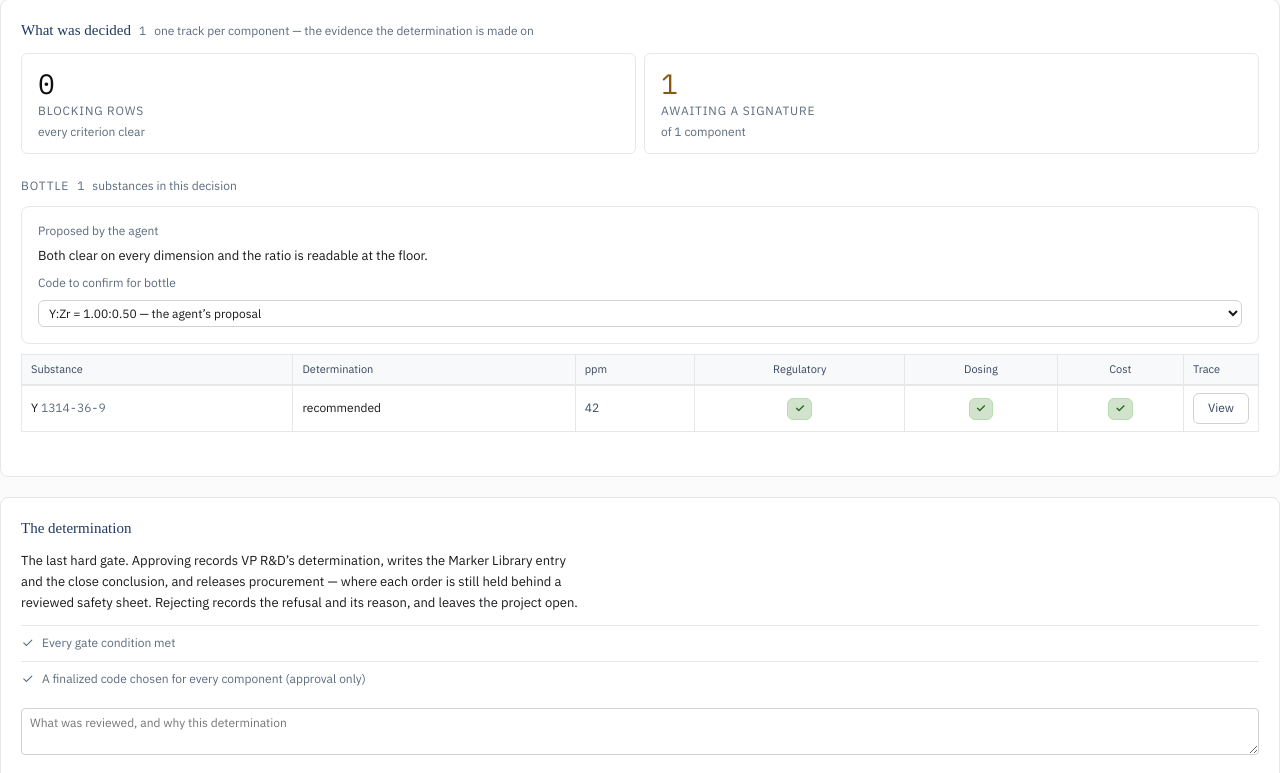
Test case: Decision — recording a ruling › shows the blockers the re-read discovered after a refusal
The width and height of the screenshot is (1280, 773).
Expected: the text "Proposed by the agent" is shown, [38,223,159,240]
Type "Signing off." into the text box named "determination note".
click(640, 732); type("Signing off.")  # box [21,708,1259,755]
(page scrolled)
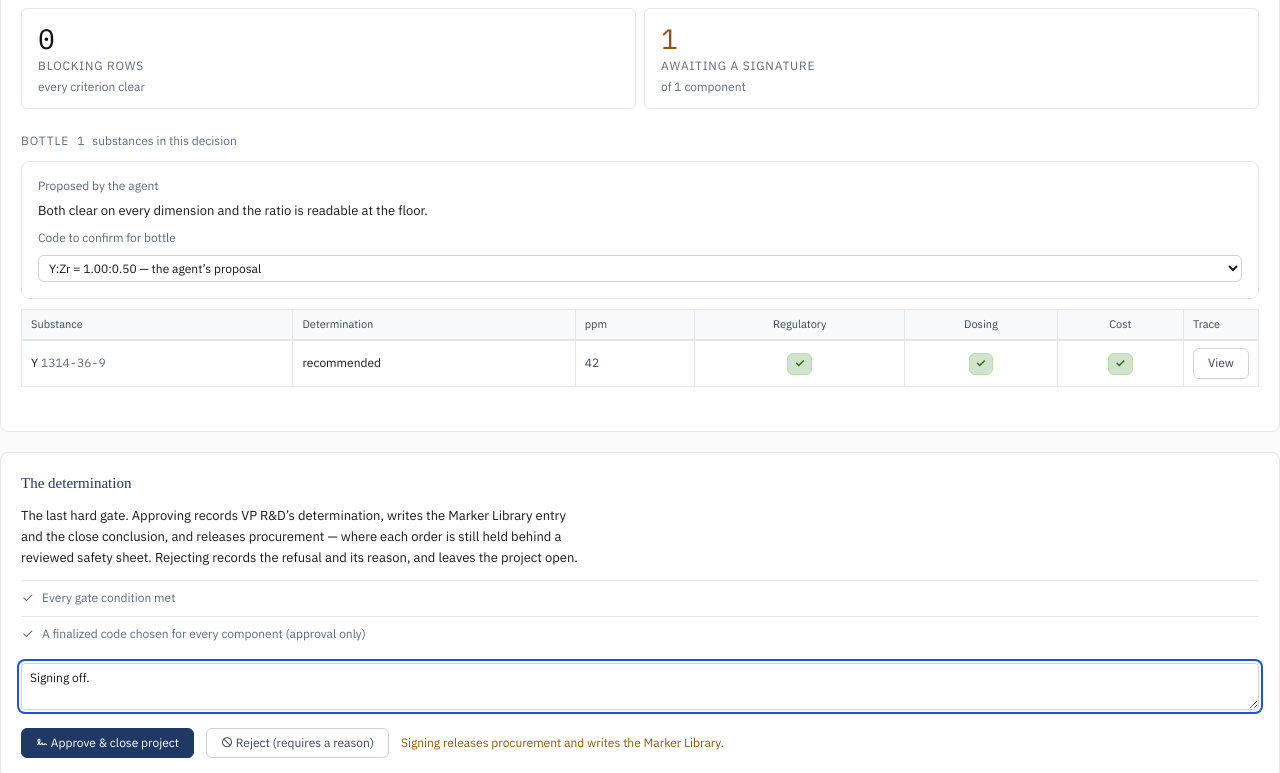
Click the button "Approve & close project".
click(108, 743)  # box [21,728,194,758]
(page scrolled)
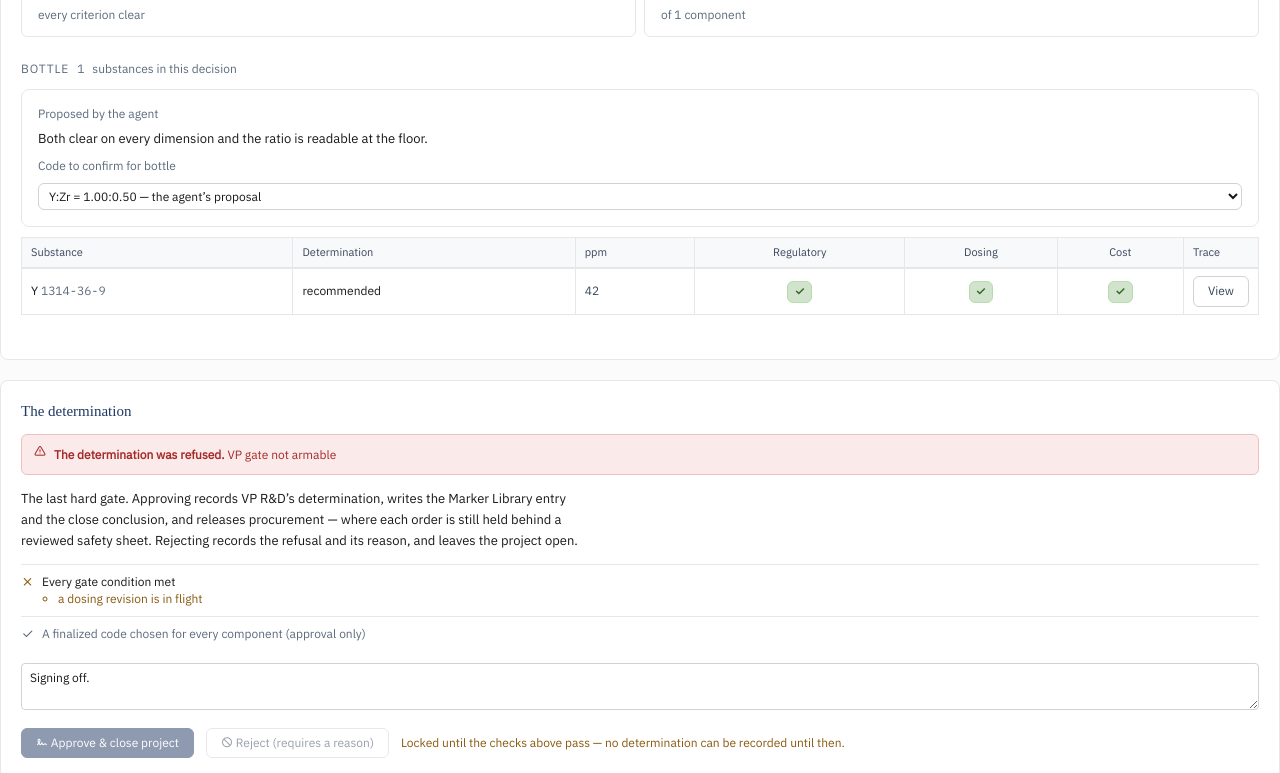
Expected: the list item "a dosing revision is in flight" is shown, [58,591,202,606]
Expected: the button "Approve & close project" is disabled, [21,728,194,758]
